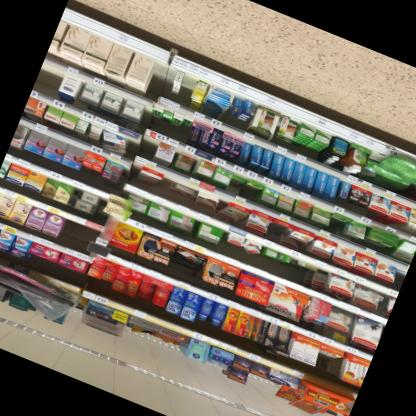empty_space: (60, 217, 100, 254), (147, 58, 176, 99), (33, 61, 62, 93)
